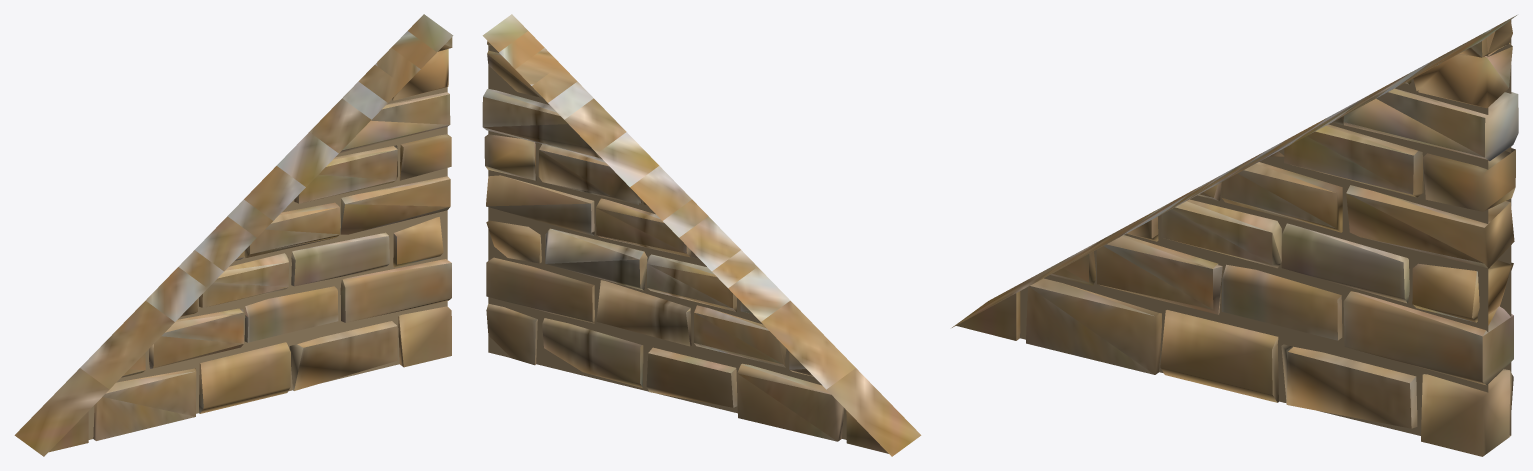
File: wall-plaster-gable.lod1.glb
3 views of the same model, side by side, from view 1: azimuth 30°, elevation 25°; view 2: azimuth 150°, elevation 25°; view 3: azimuth 330°, elevation 25° (orthographic). The views are drawn at different scales.
Bounding box in the file's own units: 2 × 1.5 × 0.25.
Materials: 1 (1 with a texture image).
